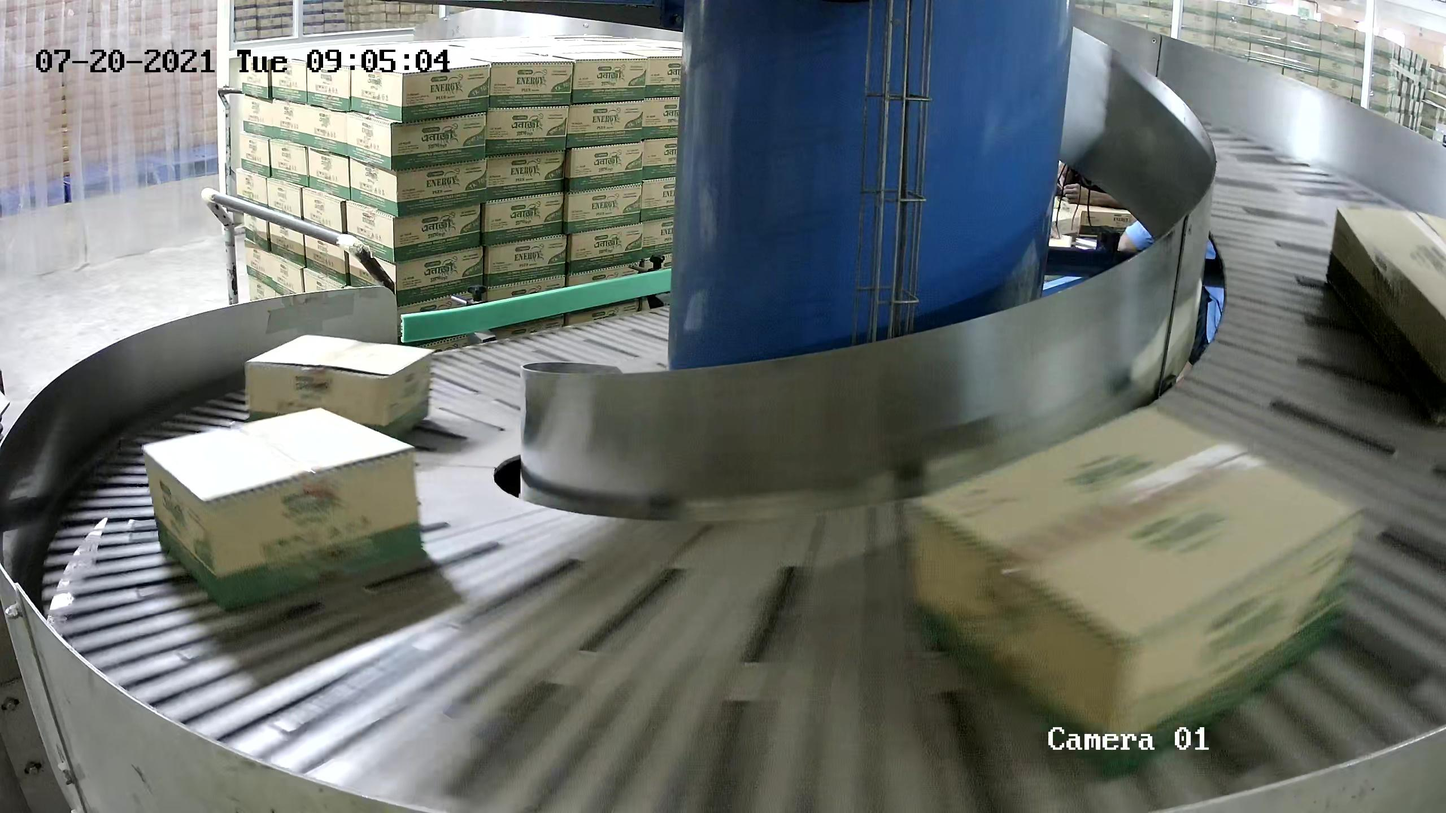Box: (909, 402, 1363, 786), (145, 407, 426, 615), (1322, 202, 1446, 437), (243, 332, 438, 445)
